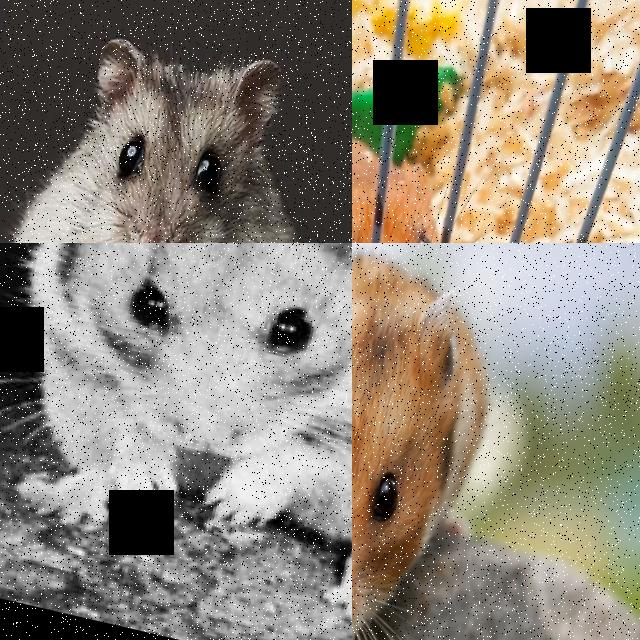hamster: (0, 243, 352, 640), (0, 10, 352, 243), (352, 243, 512, 640), (352, 109, 492, 243)
